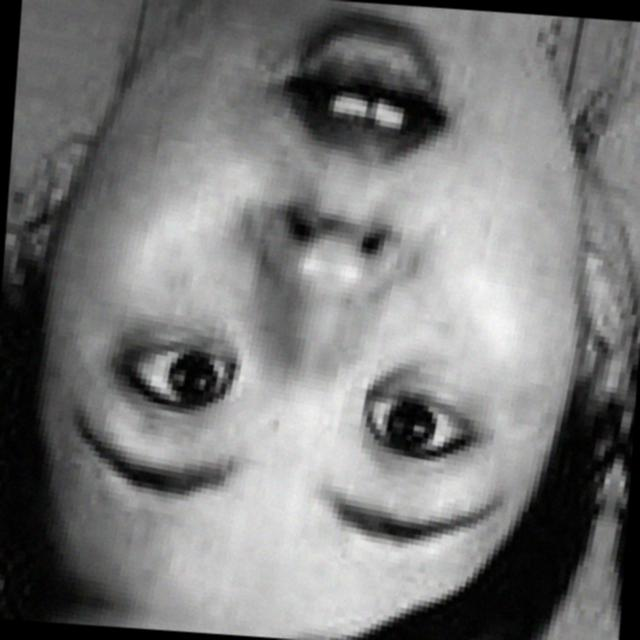surprise: (59, 0, 602, 633)
